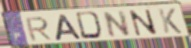A: (54, 13, 84, 42)
D: (74, 10, 106, 41)
K: (157, 8, 183, 35)
N: (128, 9, 160, 37), (103, 10, 132, 39)
R: (24, 16, 54, 43)
